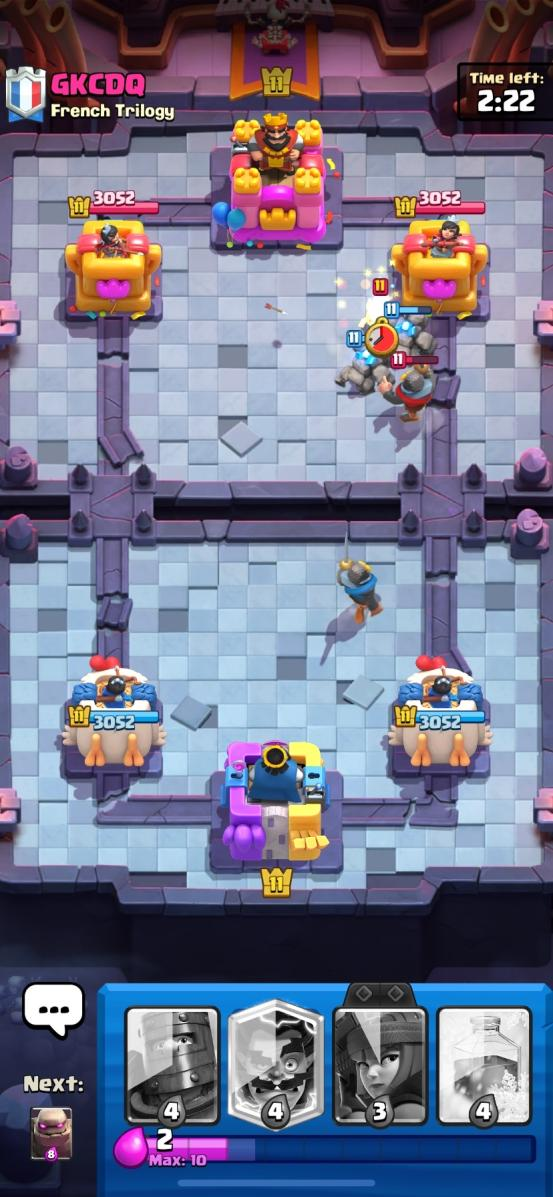EKingTower: (227, 117, 332, 247)
EKnight: (385, 357, 435, 422)
EnemyPrincessTower: (65, 219, 161, 318), (391, 220, 487, 318)
OKnight: (337, 556, 382, 625)
OMiniGolem: (335, 329, 387, 395), (384, 302, 437, 362)
OwnKingTower: (222, 742, 328, 861)
OwnPrincessTower: (63, 655, 164, 767), (389, 662, 490, 771)
